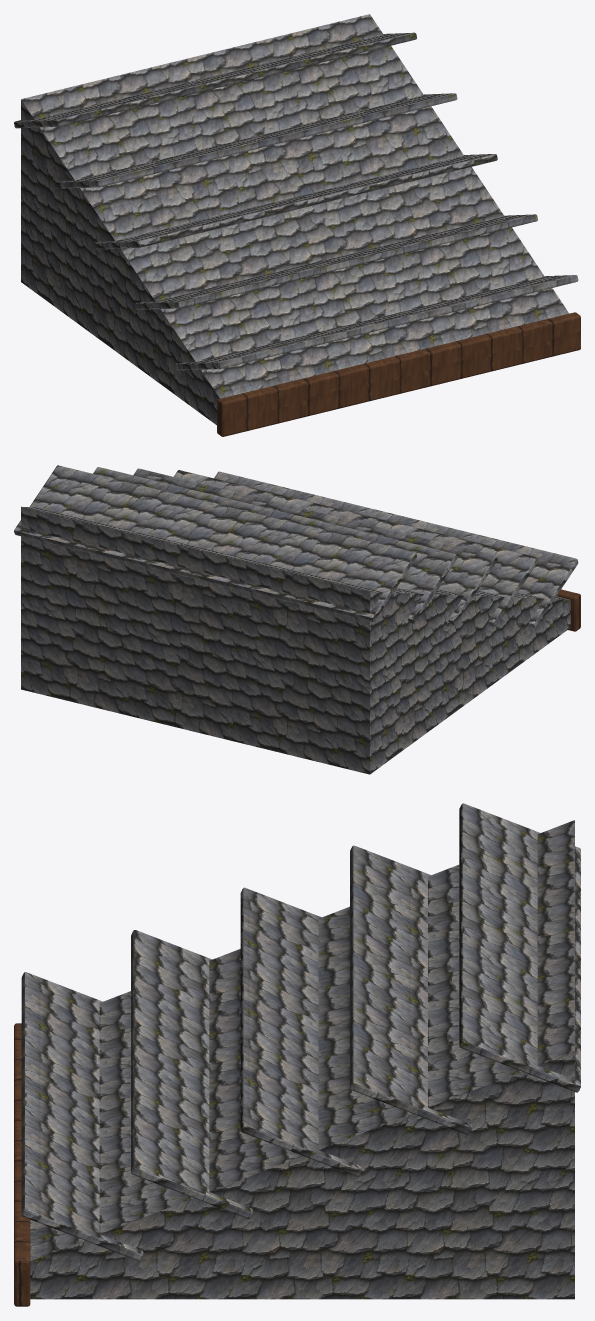
File: roof_26__cut_stone.glb
The picture shows the model from 3 angles, top to bottom: view 1: azimuth 30°, elevation 25°; view 2: azimuth 150°, elevation 25°; view 3: azimuth 270°, elevation 25°; orthographic projection. The views are drawn at different scales.
Parts seen in each view (by area): view 1: model; view 2: model; view 3: model.
Boxes of the visible parts, <box> form: model: <box>14,14,580,436</box>; model: <box>14,465,580,774</box>; model: <box>14,803,580,1306</box>.
Bounding box in the file's own units: 2.06 × 1.08 × 2.07.
Materials: 2 (2 with a texture image).
